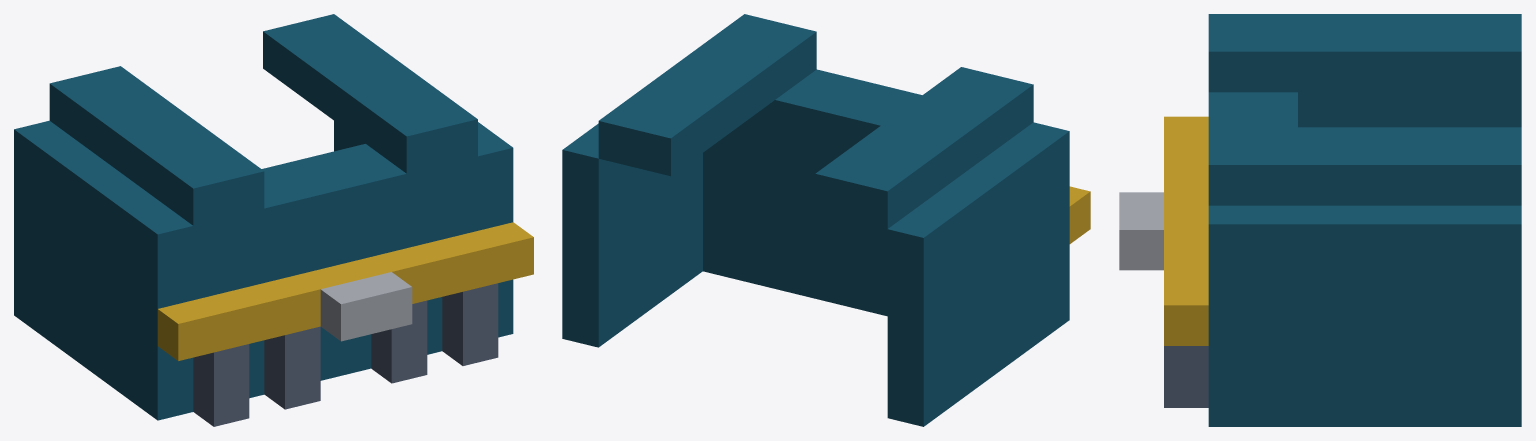
Rendered from gear_tiefsee_vest.glb.
The picture shows the model from 3 angles, left to right: view 1: azimuth 30°, elevation 25°; view 2: azimuth 150°, elevation 25°; view 3: azimuth 270°, elevation 25°; orthographic projection. The views are drawn at different scales.
Visible parts, largest first — view 1: body; view 2: body; view 3: body.
Boxes of the visible parts, left/top/right/bottom form: body: left=14, top=14, right=533, bottom=426; body: left=562, top=14, right=1090, bottom=426; body: left=1119, top=14, right=1521, bottom=426.
Bounding box in the file's own units: 0.6 × 0.36 × 0.54.
